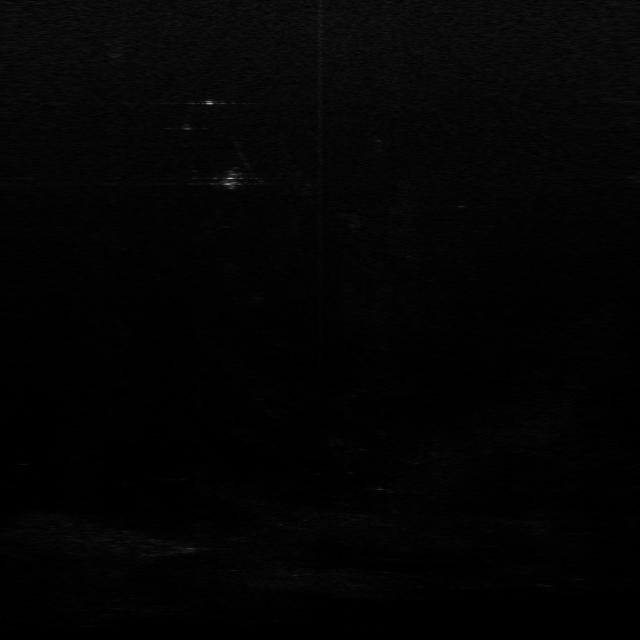rov: (216, 170, 244, 190)
